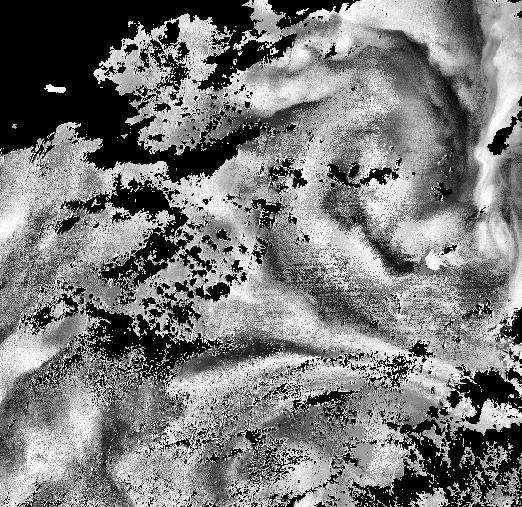AE: (242, 19, 492, 299)
